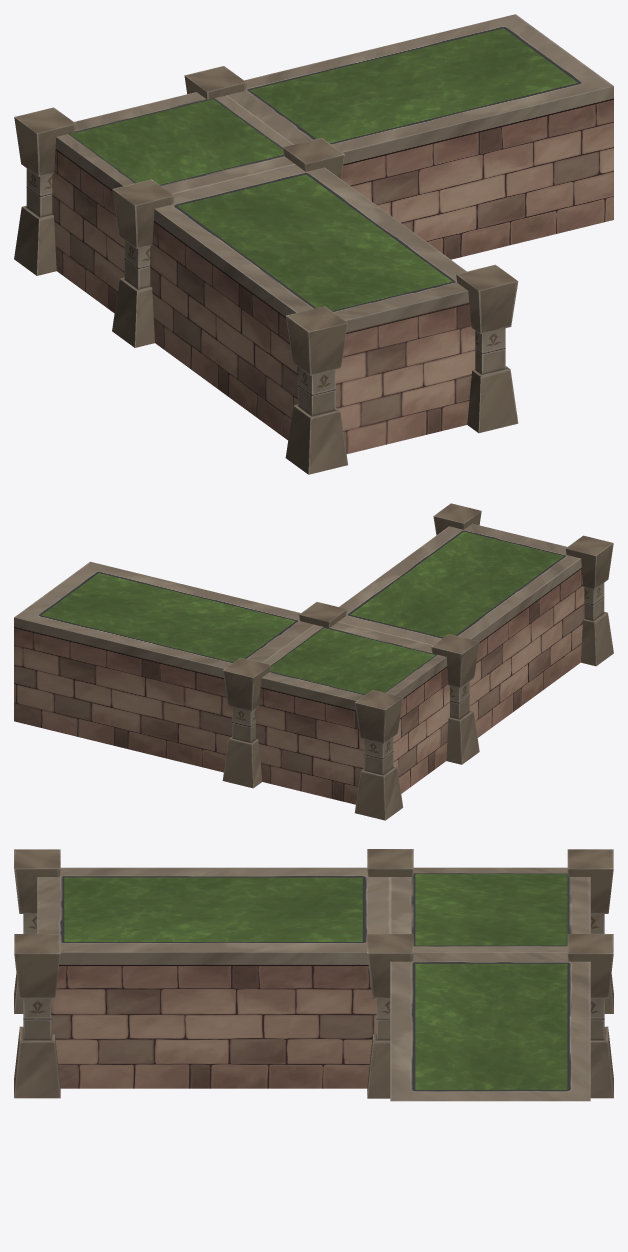
File: wall_corner_modular2.fbx
3 views of the same model, one above another, from view 1: azimuth 30°, elevation 25°; view 2: azimuth 150°, elevation 25°; view 3: azimuth 270°, elevation 25° (orthographic). The views are drawn at different scales.
Visible parts, largest first — view 1: polySurface2488; view 2: polySurface2488; view 3: polySurface2488.
Part boxes in pixels (x1,y1,x2,y2): polySurface2488: [14, 14, 613, 474]; polySurface2488: [14, 503, 613, 820]; polySurface2488: [14, 849, 613, 1101].
Bounding box in the file's own units: 11.08 × 3.07 × 11.52.
